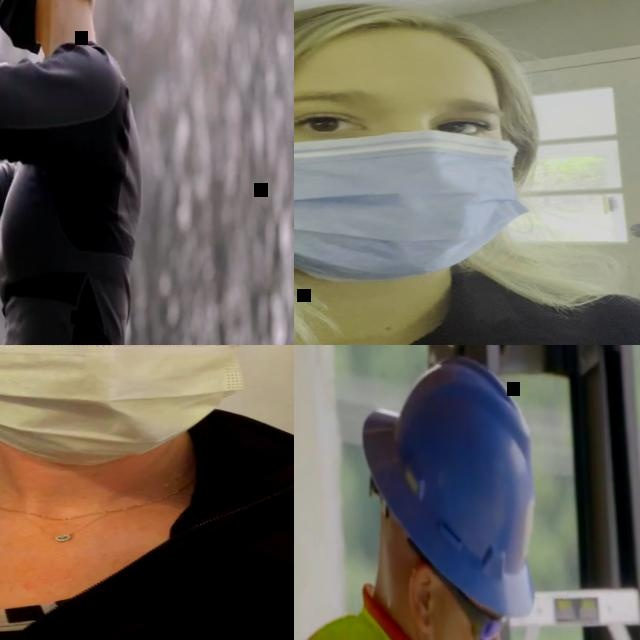Hardhat: (356, 354, 541, 618)
Mask: (294, 127, 525, 281), (0, 345, 263, 470), (0, 0, 40, 52)
NO-Hardhat: (294, 0, 529, 99)
NO-Safety Vest: (0, 431, 294, 640), (0, 55, 149, 345)
Person: (294, 0, 640, 345), (0, 345, 294, 640), (294, 354, 556, 640), (0, 0, 152, 345)
